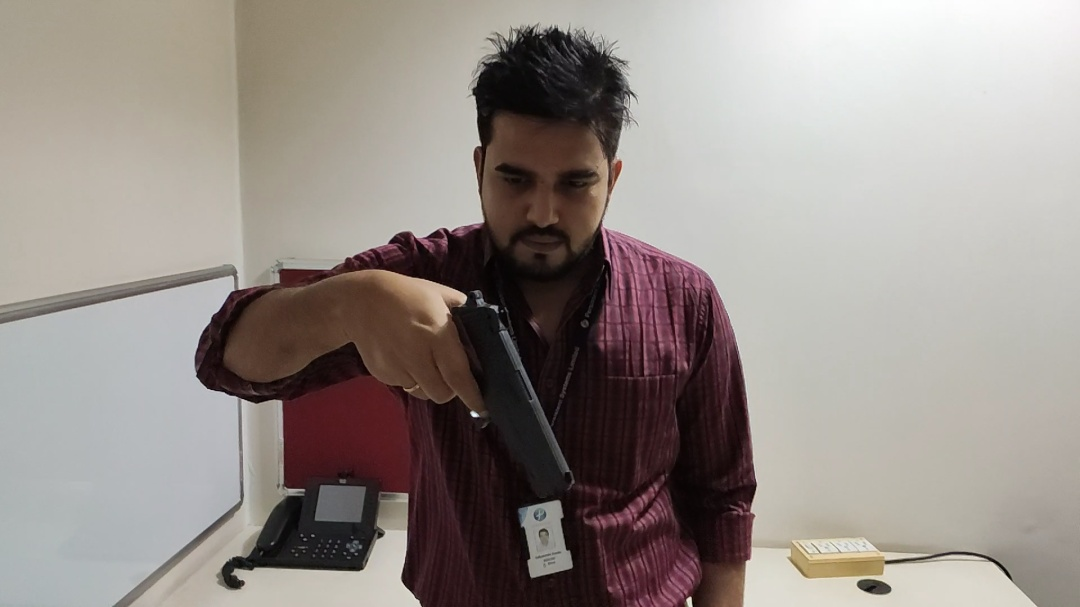gun: (393, 282, 602, 502)
